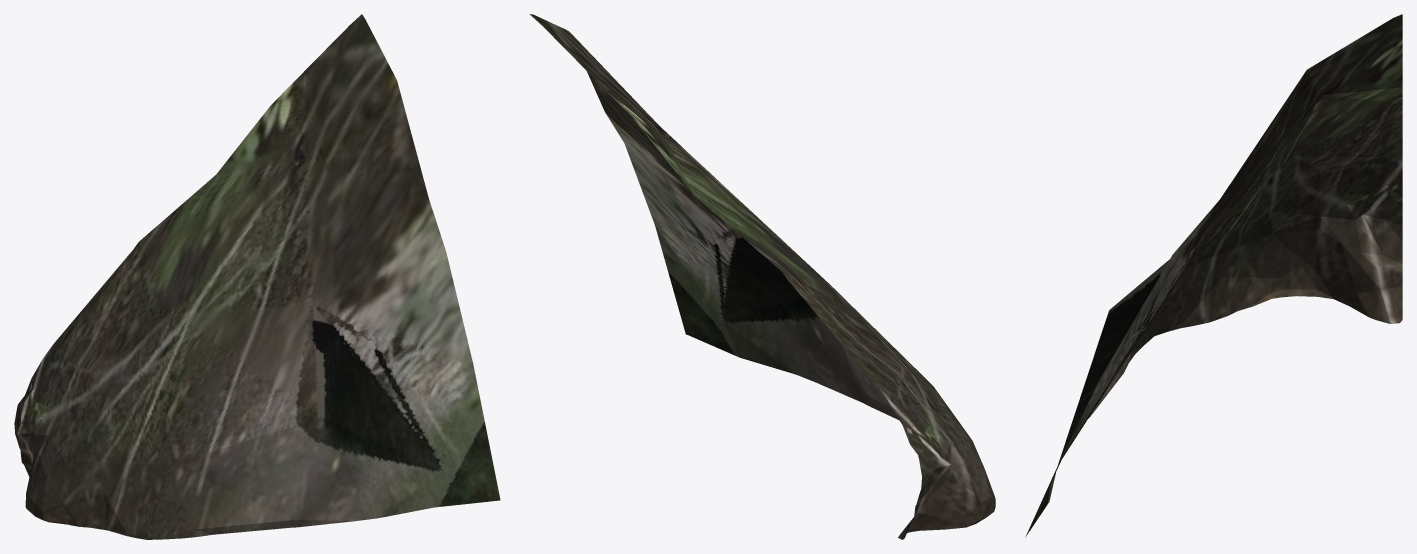
3 renders of one model, left to right at view 1: azimuth 30°, elevation 25°; view 2: azimuth 150°, elevation 25°; view 3: azimuth 270°, elevation 25°, orthographic. The views are drawn at different scales.
Size of the model in its own units: 2.52 by 2.5 by 1.63.
2 materials, 2 textured.
